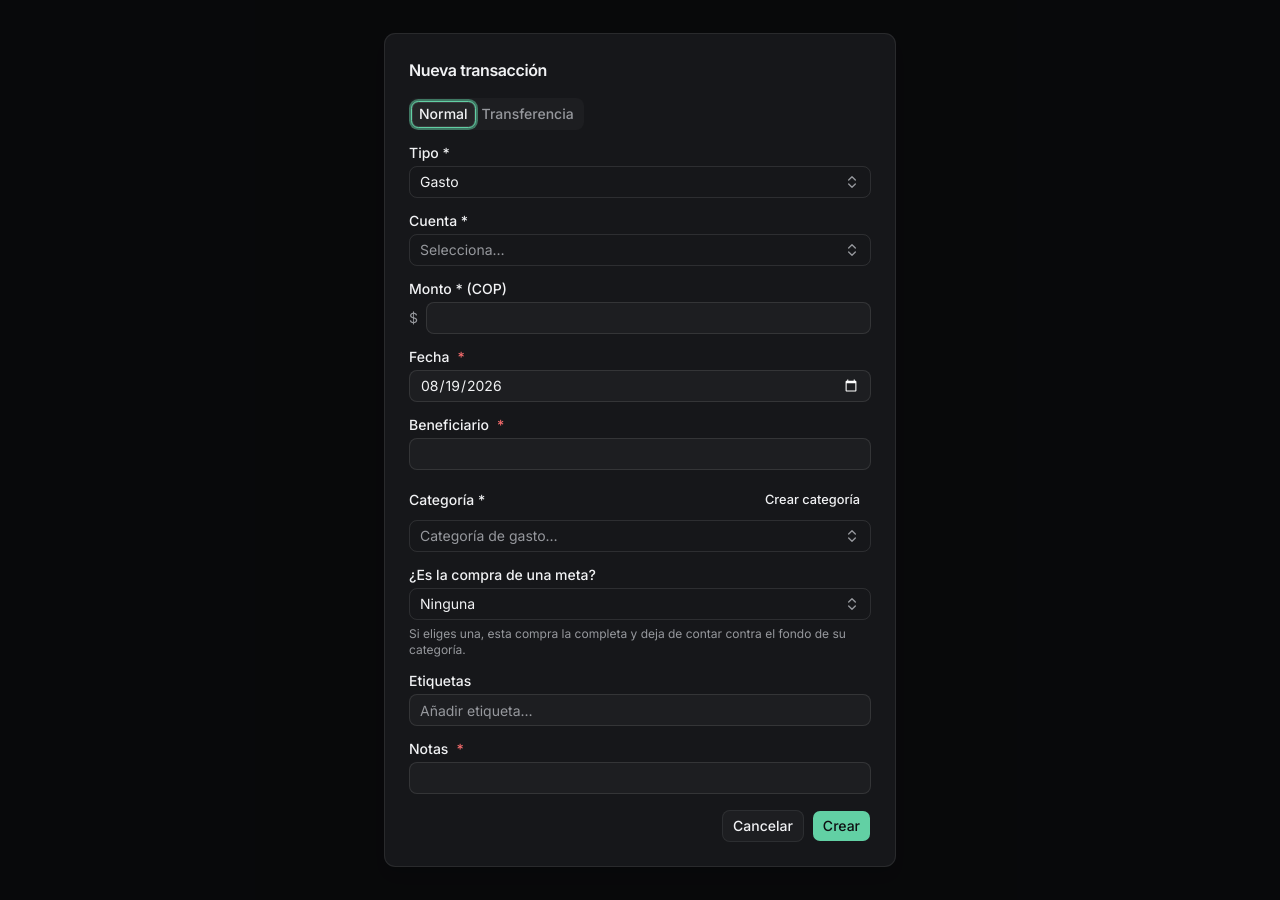
Test: AC-29 — a meta is archived and restored, never destroyed › An archived meta is not offered when an expense is recorded
The width and height of the screenshot is (1280, 900).
What coordinates should you click on to do the following:
click the dropdown named "Es la compra de una meta"
I would click on:
 (448, 604)
Its box is 409,588 -> 871,620.
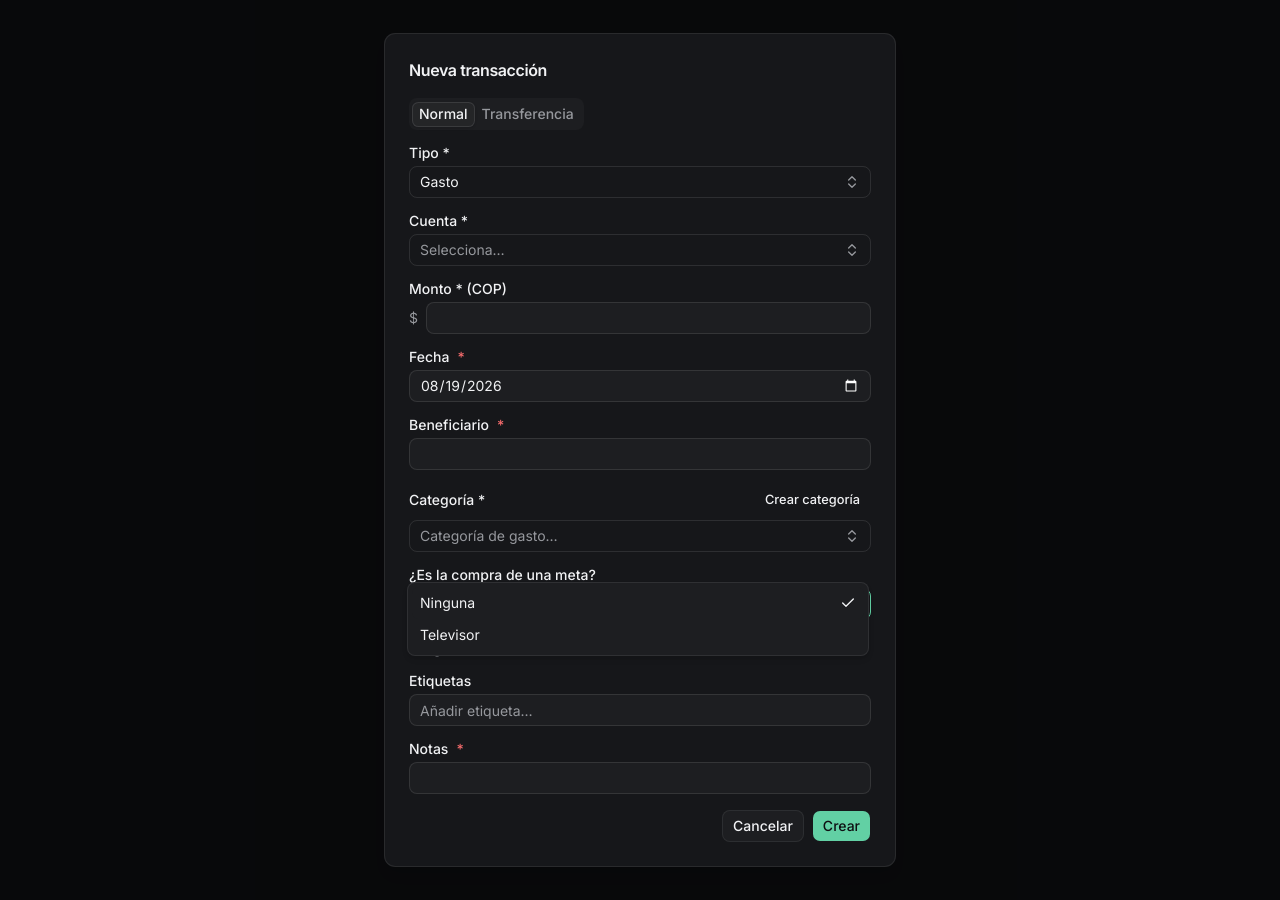
Now the option "Televisor" is shown, box 420,626 -> 480,643
